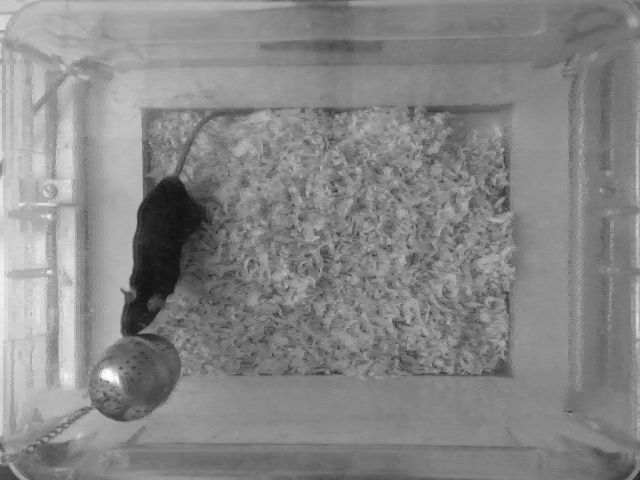mice: (115, 108, 238, 340)
